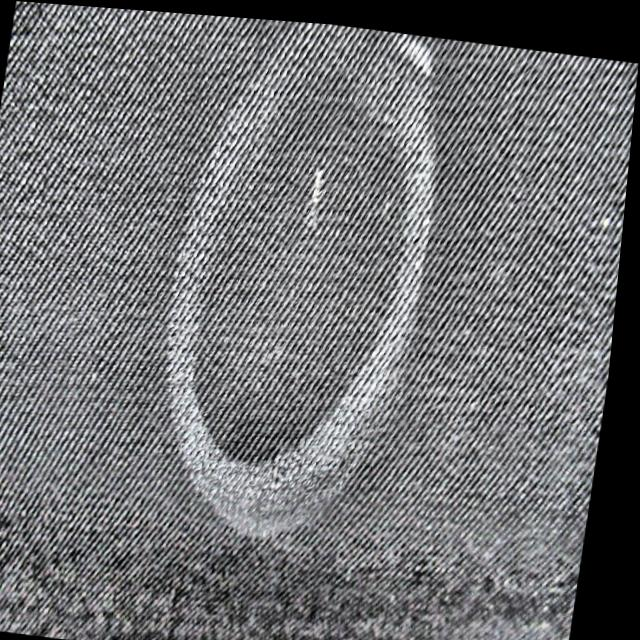Hole: (305, 138, 336, 242)
